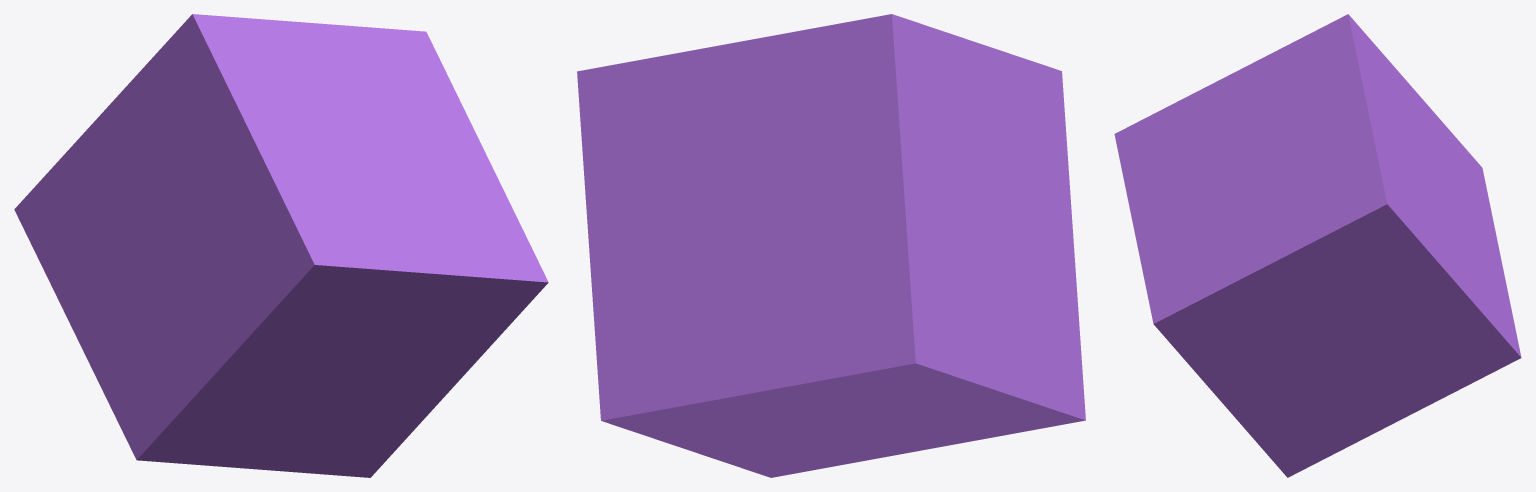
The model's file is Cube FIXED.fbx.
3 views of the same model, side by side, from view 1: azimuth 30°, elevation 25°; view 2: azimuth 150°, elevation 25°; view 3: azimuth 270°, elevation 25° (orthographic). The views are drawn at different scales.
Visible parts, largest first — view 1: Cube.001; view 2: Cube.001; view 3: Cube.001.
Part boxes in pixels (x1,y1,x2,y2): Cube.001: (14, 14, 548, 477); Cube.001: (577, 14, 1085, 477); Cube.001: (1114, 14, 1521, 477).
Size of the model in its own units: 132 by 160 by 146.
